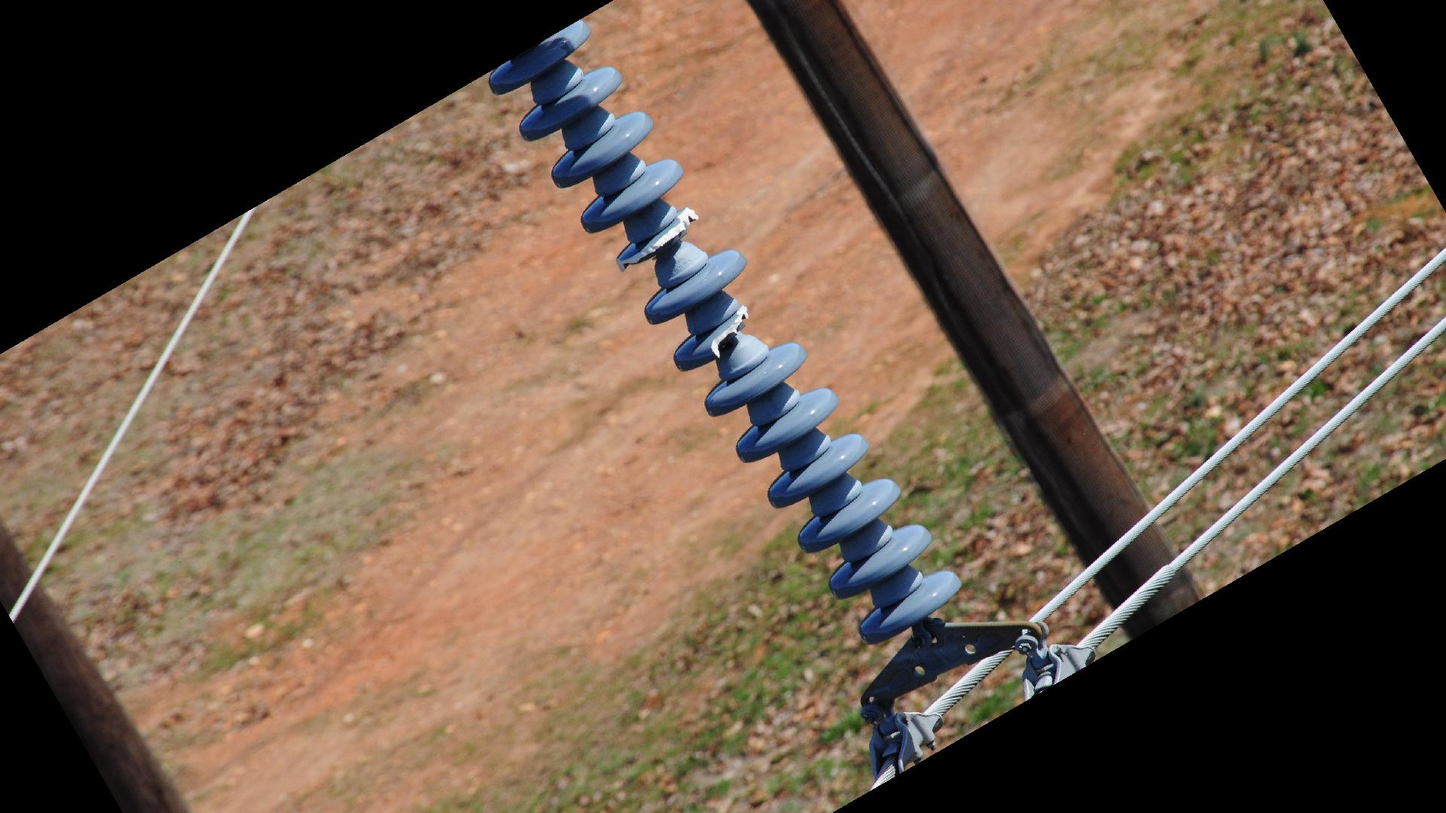insulator: (481, 14, 970, 652)
insulator_breakage: (614, 202, 700, 274), (706, 303, 752, 362)
